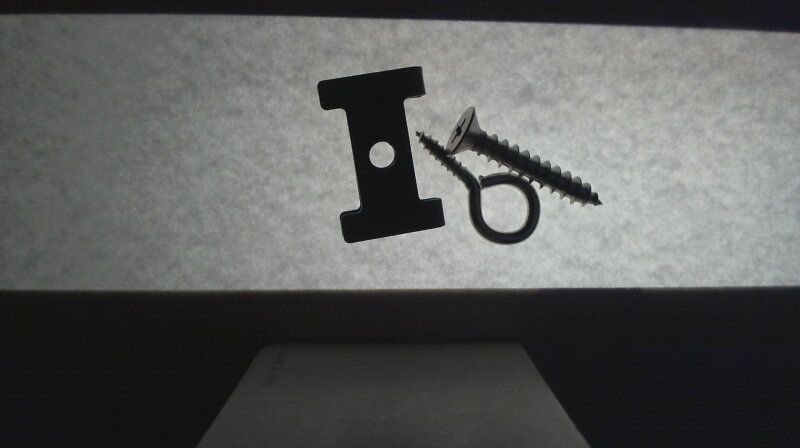O001: (412, 129, 541, 244)
O002: (315, 65, 445, 244)
S001: (443, 105, 605, 208)
